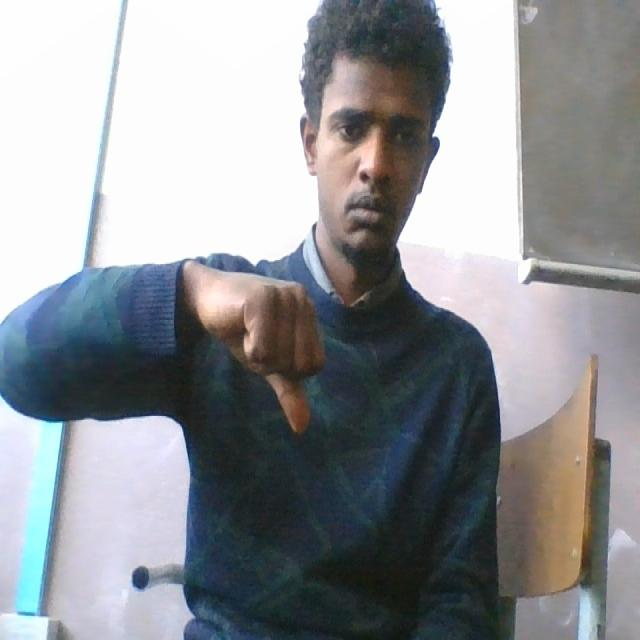injera: (183, 263, 330, 444)
